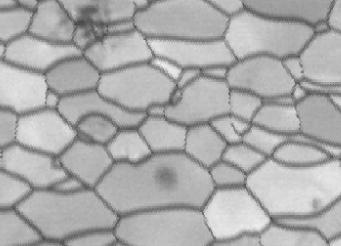good_void: (145, 159, 188, 199), (308, 192, 326, 211)
